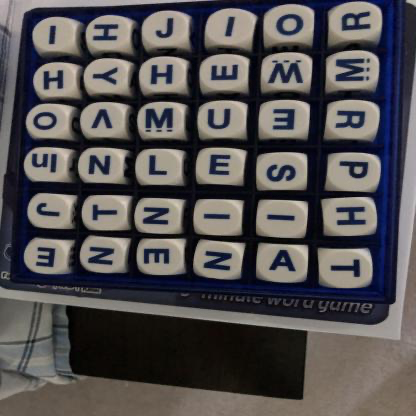a: (257, 245, 309, 283)
e: (261, 101, 311, 139), (197, 148, 245, 186), (200, 56, 250, 92), (138, 240, 183, 277), (26, 241, 69, 275)
h: (324, 199, 377, 236), (87, 16, 132, 52), (141, 58, 186, 93), (34, 63, 77, 98)
i: (206, 8, 255, 47), (257, 201, 308, 238), (194, 201, 244, 237), (34, 18, 79, 55)
in: (24, 146, 70, 184)
j: (144, 12, 190, 48), (28, 194, 72, 230)
l: (137, 149, 183, 185)
m: (328, 52, 382, 92), (138, 102, 186, 140)
n: (195, 242, 244, 280), (79, 148, 124, 184), (137, 199, 183, 234), (81, 238, 127, 272)
o: (265, 5, 316, 44), (26, 104, 69, 138)
p: (329, 152, 382, 193)
r: (328, 100, 381, 141), (331, 2, 384, 42)
s: (257, 153, 310, 192)
t: (321, 251, 374, 290), (83, 195, 129, 231)
u: (199, 102, 247, 140)
v: (81, 103, 127, 138)
w: (262, 53, 313, 91)
y: (84, 59, 129, 95)
